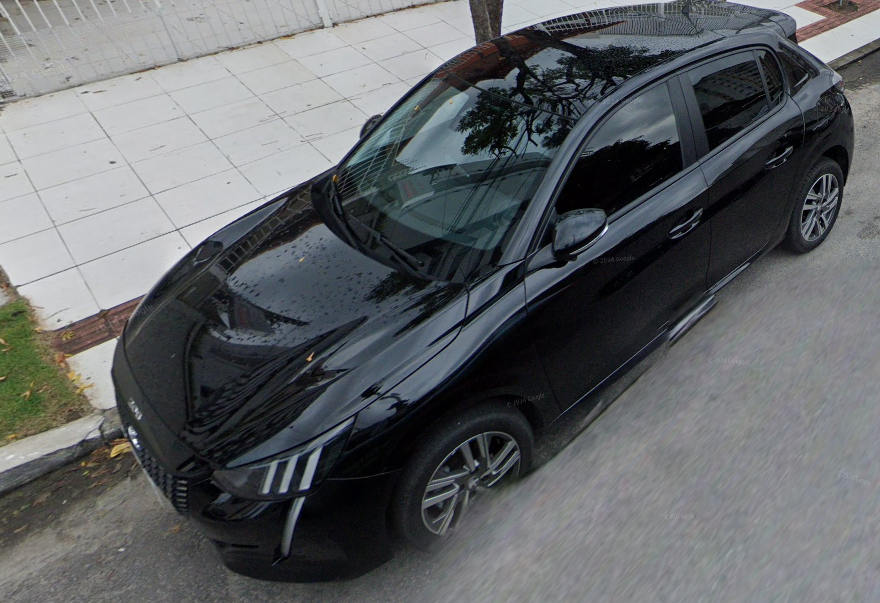car: (112, 3, 855, 575)
